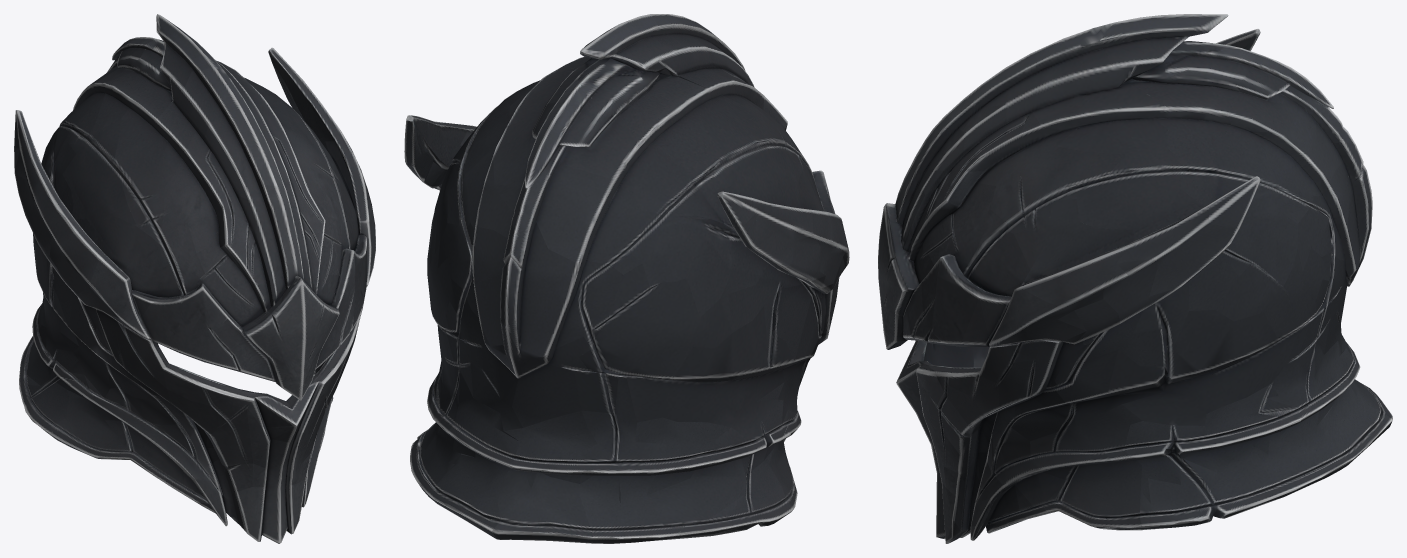
The model's file is darkplate_helmet.glb.
3 renders of one model, left to right at view 1: azimuth 30°, elevation 25°; view 2: azimuth 150°, elevation 25°; view 3: azimuth 270°, elevation 25°, orthographic. The views are drawn at different scales.
Visible parts, largest first — view 1: Mesh_0; view 2: Mesh_0; view 3: Mesh_0.
Boxes of the visible parts, box(x1,y1,x2,y2) form: Mesh_0: box(14, 14, 375, 543); Mesh_0: box(404, 14, 849, 543); Mesh_0: box(878, 14, 1392, 543).
Size of the model in its own units: 1.37 by 1.9 by 1.69.
1 material, 1 textured.
